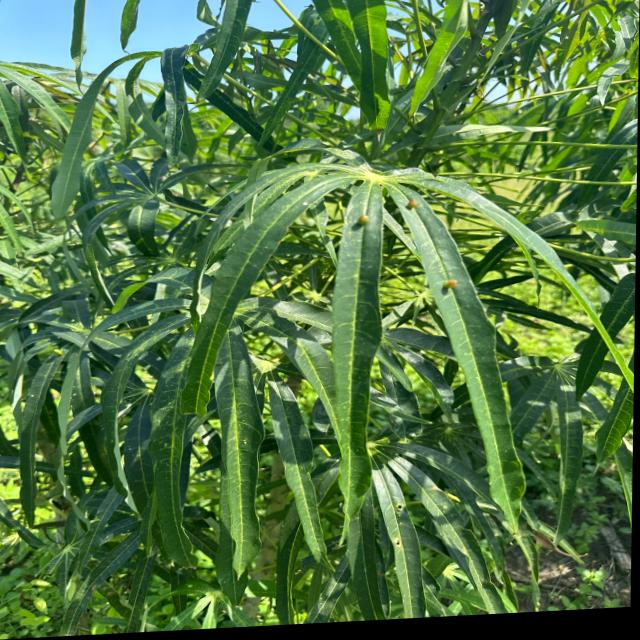Mosca: (436, 258, 496, 301), (395, 180, 450, 220), (348, 193, 381, 242)
